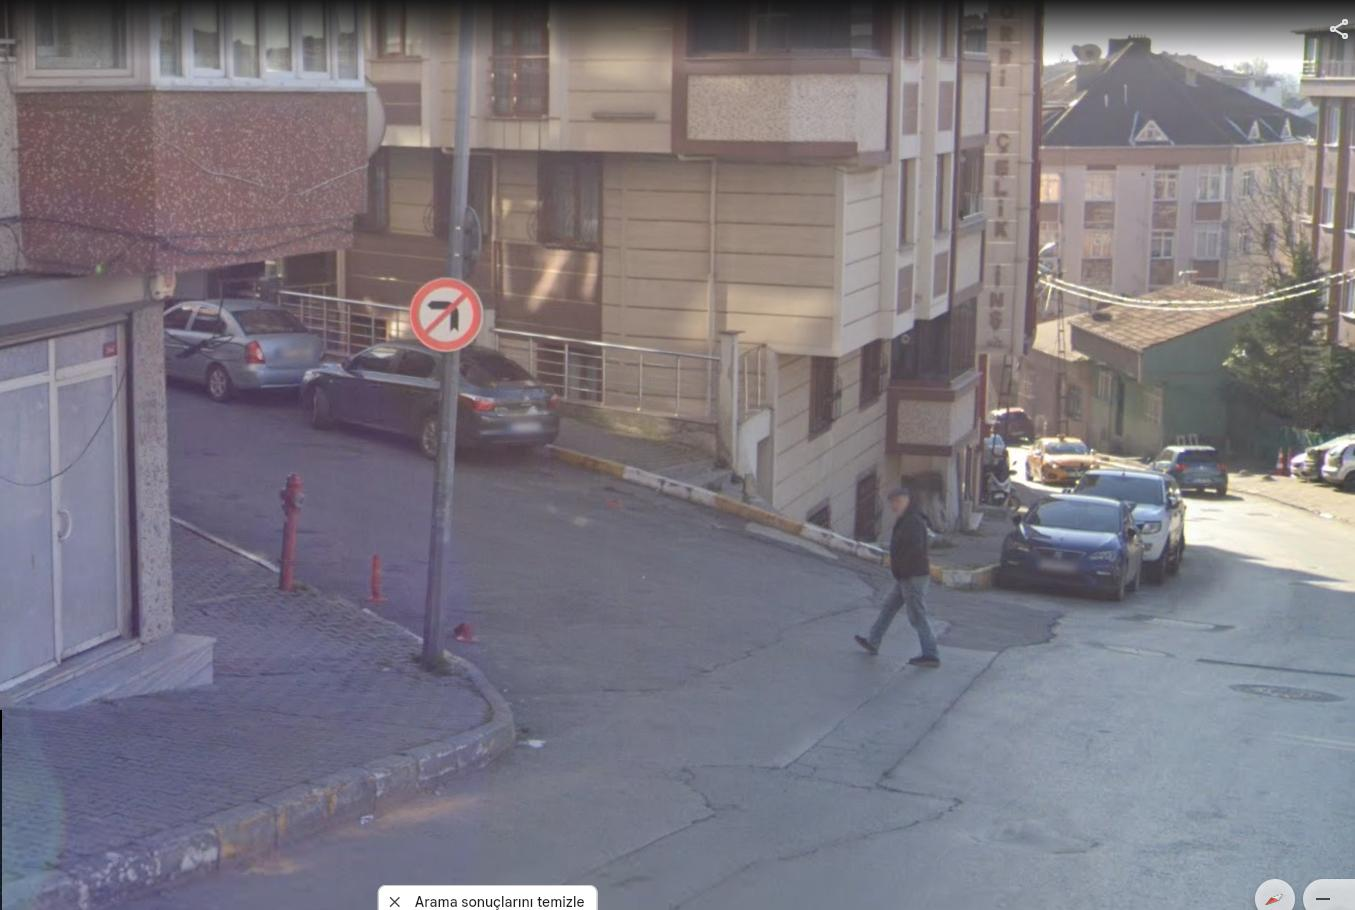leftturnsareforbidden: (411, 280, 482, 348)
